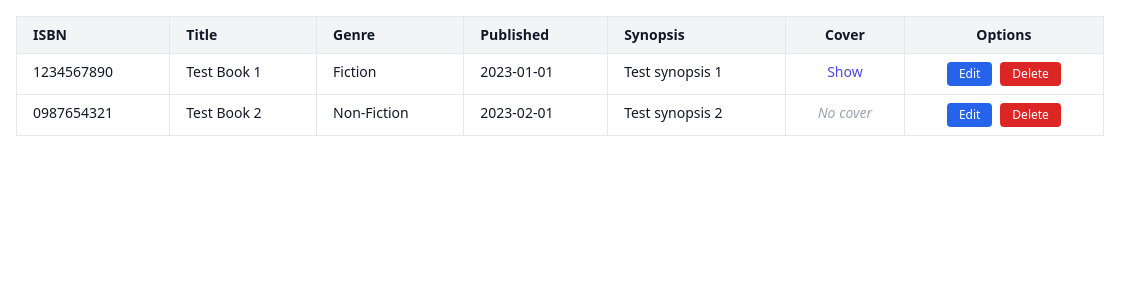
it: BookTable Component › shows error message when required fields are missing in edit
The width and height of the screenshot is (1121, 308).
Click the button "Edit" in the row of "1234567890".
click(970, 74)  # box [947, 62, 992, 86]
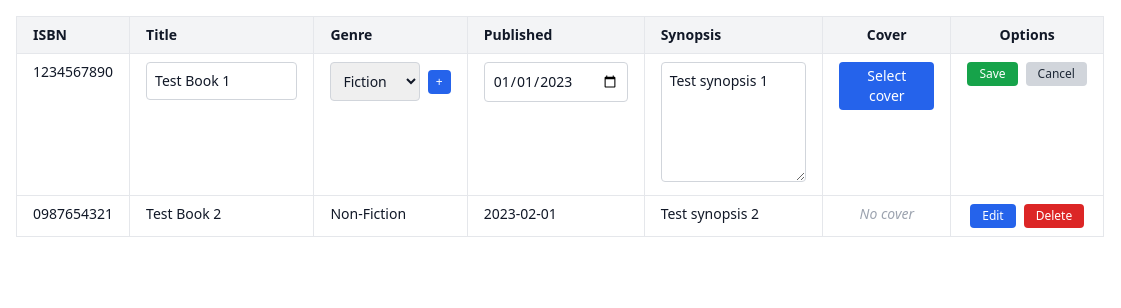
Clear required fields
Clear the field showing "Test Book 1" at {"x": 222, "y": 81}, box [146, 62, 297, 100]
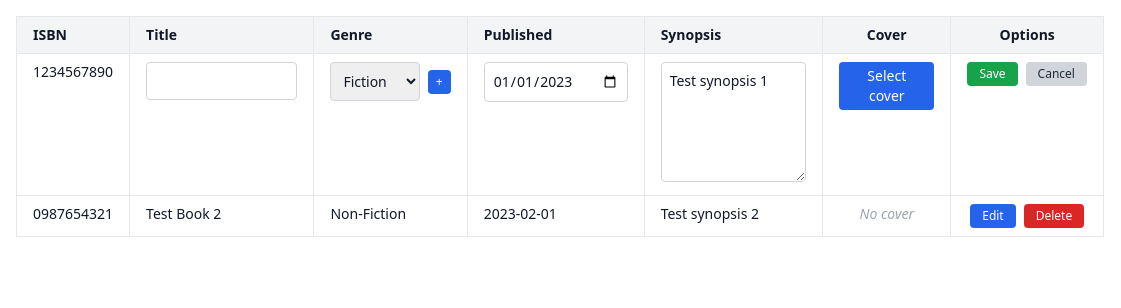
Click the button "Save".
click(992, 74)  # box [967, 62, 1018, 86]
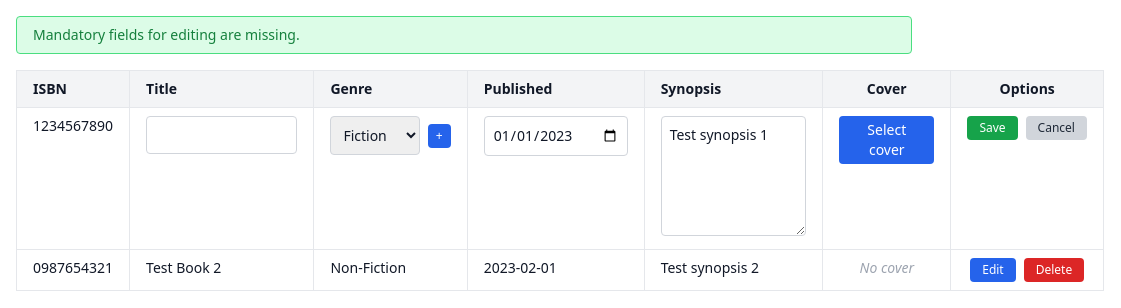
Check: the text "Mandatory fields for editing are missing." is shown, box [16, 16, 912, 54]
